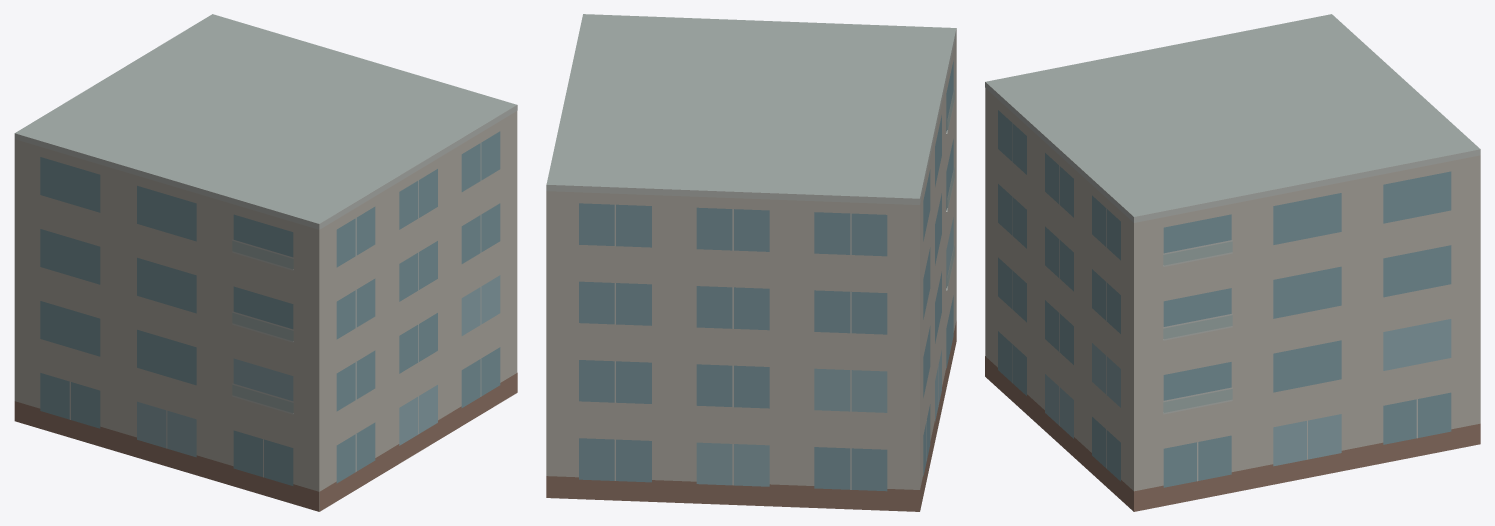
The model's file is survey-upis-32604164.glb.
The picture shows the model from 3 angles, left to right: view 1: azimuth 30°, elevation 25°; view 2: azimuth 150°, elevation 25°; view 3: azimuth 270°, elevation 25°; orthographic projection. The views are drawn at different scales.
Parts seen in each view (by area): view 1: survey-upis-32604164.tmp; view 2: survey-upis-32604164.tmp; view 3: survey-upis-32604164.tmp.
Part boxes in pixels (bbox=[...]): survey-upis-32604164.tmp: bbox=[14, 14, 517, 511]; survey-upis-32604164.tmp: bbox=[546, 14, 956, 511]; survey-upis-32604164.tmp: bbox=[985, 14, 1480, 511].
Bounding box in the file's own units: 17.73 × 12 × 18.29.
